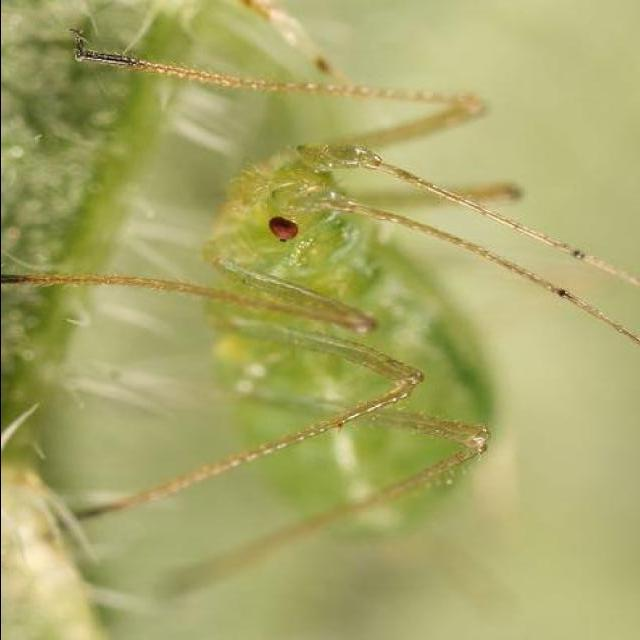aphid: (51, 42, 536, 530)
